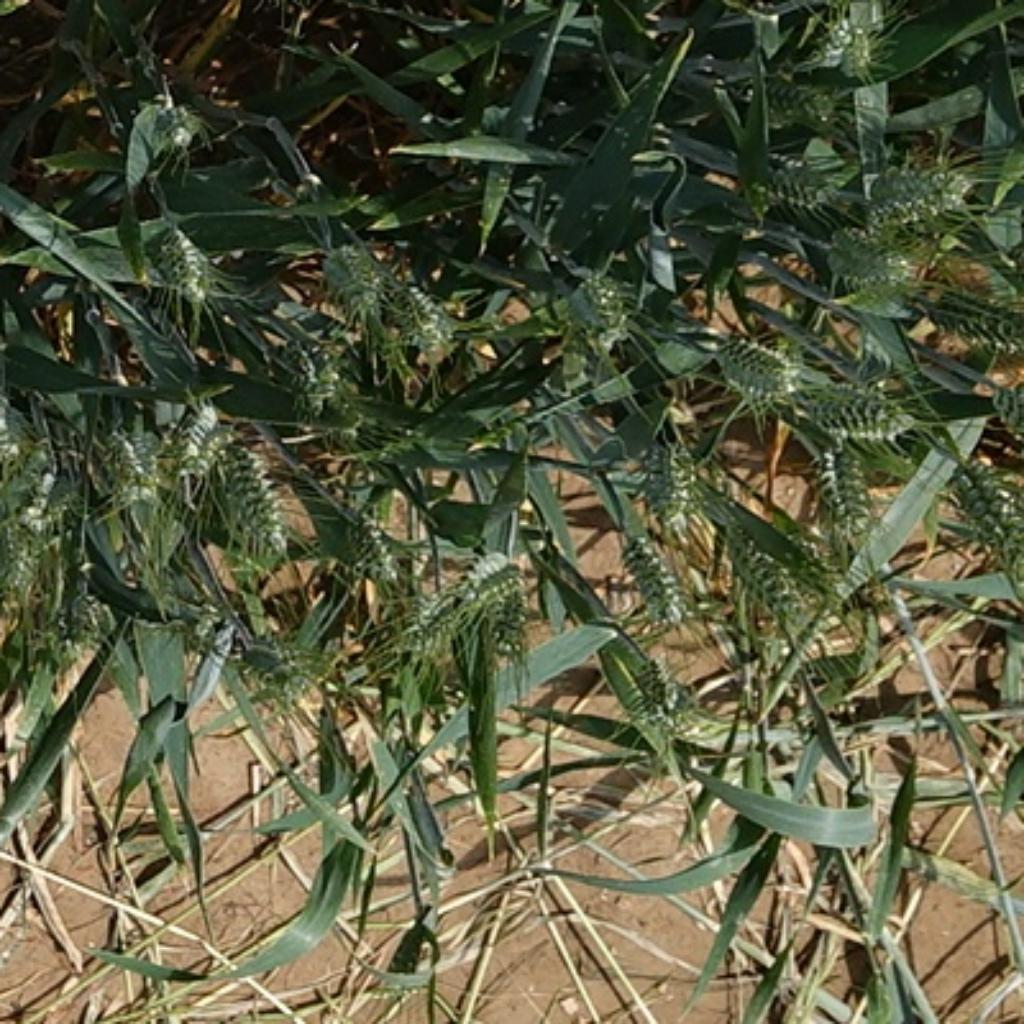0-0: (726, 522, 838, 649), (624, 637, 729, 760), (222, 625, 350, 723), (616, 501, 714, 624), (43, 550, 124, 695), (111, 84, 229, 175), (855, 154, 983, 236), (934, 440, 1024, 555), (790, 375, 931, 447), (222, 427, 291, 568), (4, 450, 70, 591), (547, 258, 640, 350), (619, 432, 709, 522), (89, 417, 176, 509), (808, 427, 888, 527), (458, 553, 540, 648), (919, 283, 1024, 357), (292, 388, 400, 459), (386, 569, 463, 667), (709, 327, 801, 407), (135, 215, 219, 302), (378, 266, 460, 355), (821, 222, 915, 299), (803, 0, 893, 78), (314, 235, 399, 317), (275, 331, 366, 404), (742, 64, 837, 133), (343, 509, 422, 591), (778, 529, 850, 617), (750, 145, 844, 212), (171, 399, 232, 486), (858, 566, 915, 628)
